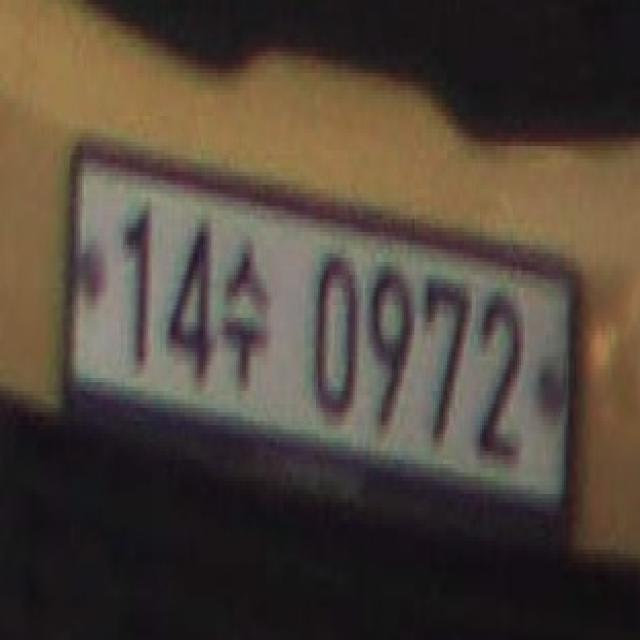plat: (60, 132, 585, 551)
